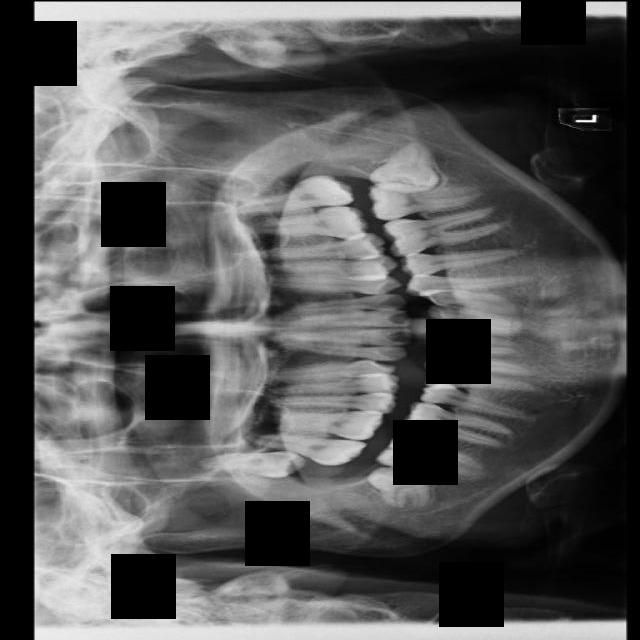3M ESPE Implant: (200, 450, 306, 476)
73: (588, 21, 596, 32)
BioHorizons Implant: (225, 169, 356, 222)
Biomet 3i Implant: (367, 132, 451, 215)
Blue Sky Bio Implant: (368, 181, 483, 219)
Caries: (242, 428, 367, 469)
Implant: (374, 428, 487, 479)
Keystone Dental Implant: (368, 460, 439, 508)
